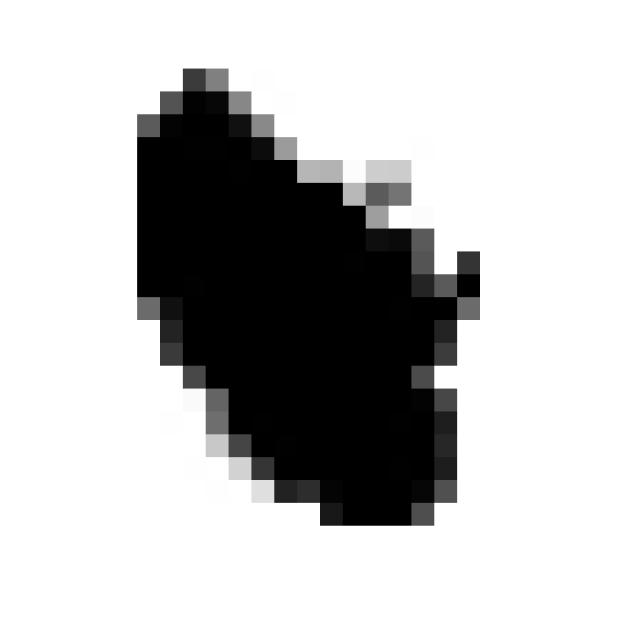0 -zero-: (110, 53, 496, 536)
